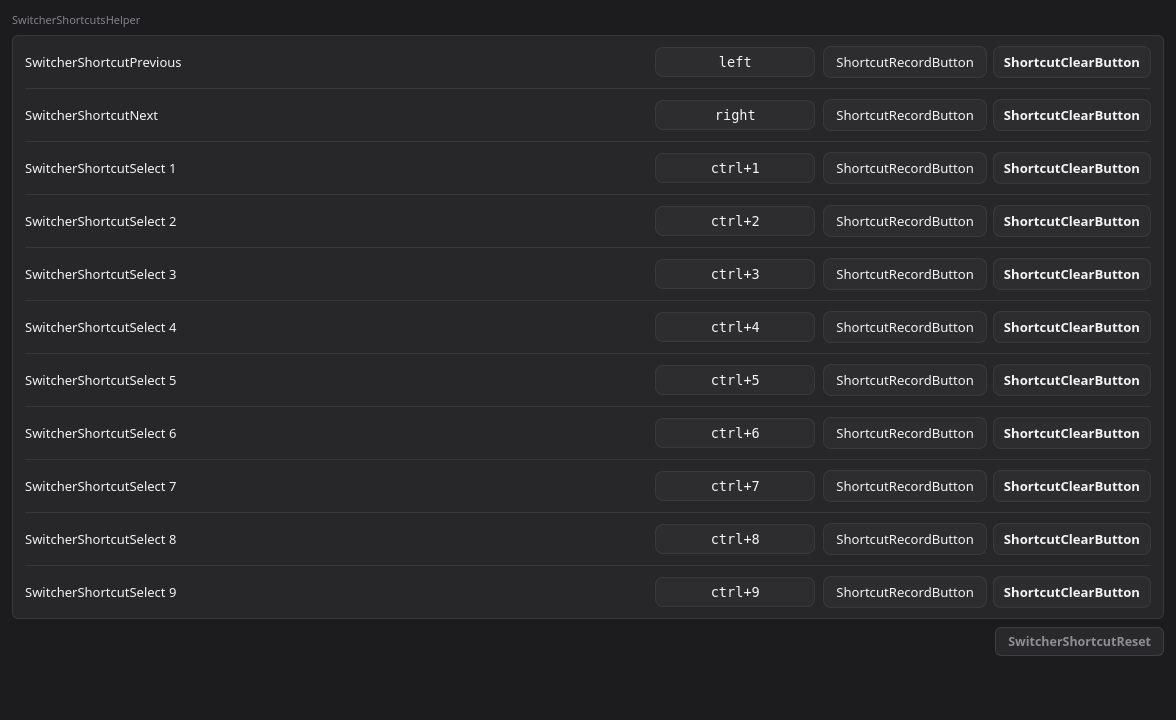
SwitcherShortcutsSection › rejects reserved keys and clears the error after a valid change
This screenshot has width=1176, height=720.
Click the button with aria-label ": ShortcutRecordButton" at (905, 168), box [823,152,987,184]
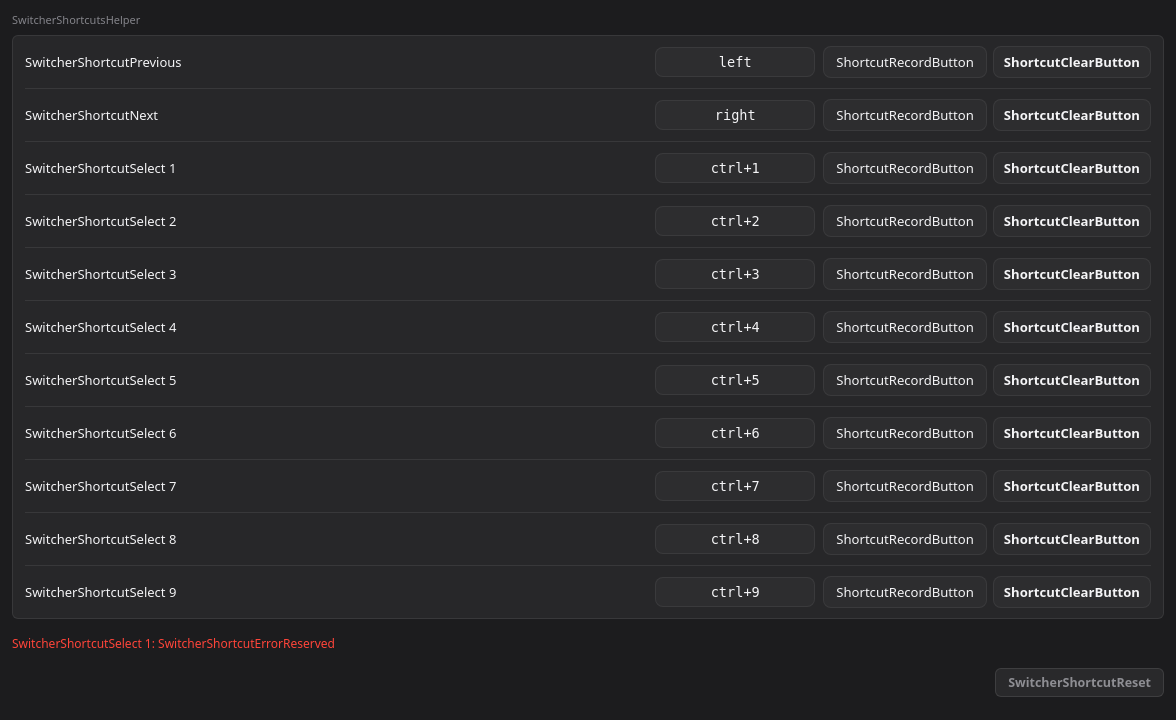
Result: the message "SwitcherShortcutSelect 1: SwitcherShortcutErrorReserved" is shown at [12,635,335,652]
Click the button with aria-label ": ShortcutRecordButton" at (905, 168), box [823,152,987,184]
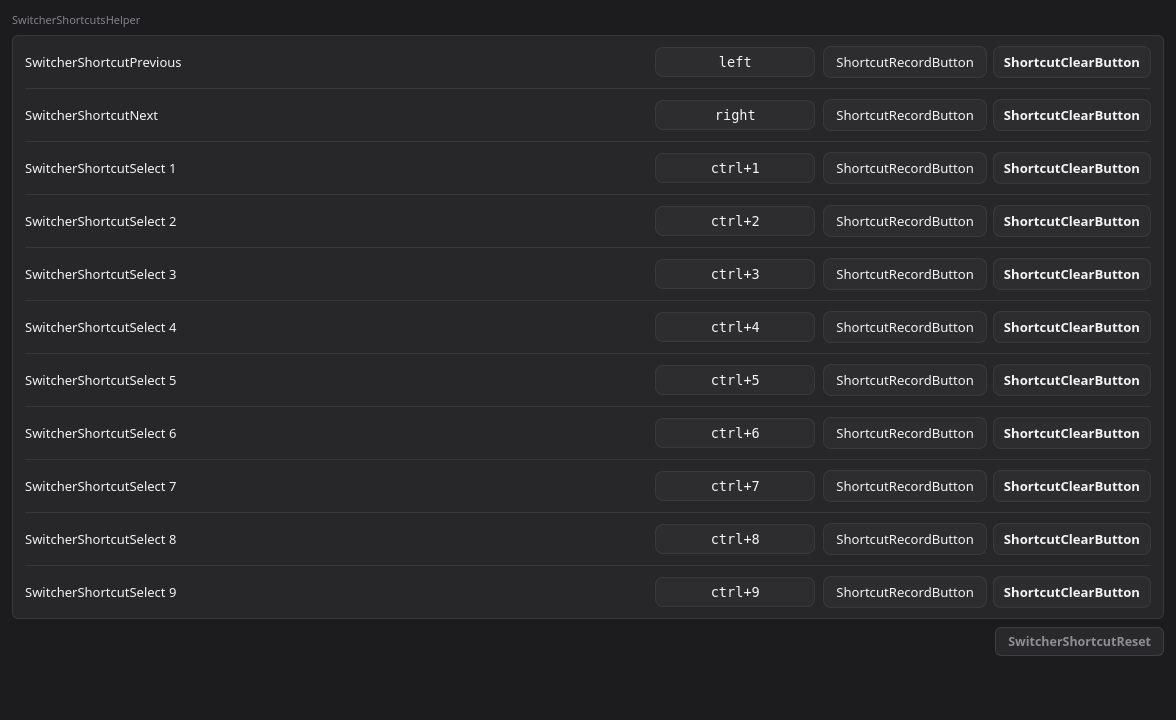
Result: the message "SwitcherShortcutSelect 1: SwitcherShortcutErrorReserved" is gone
